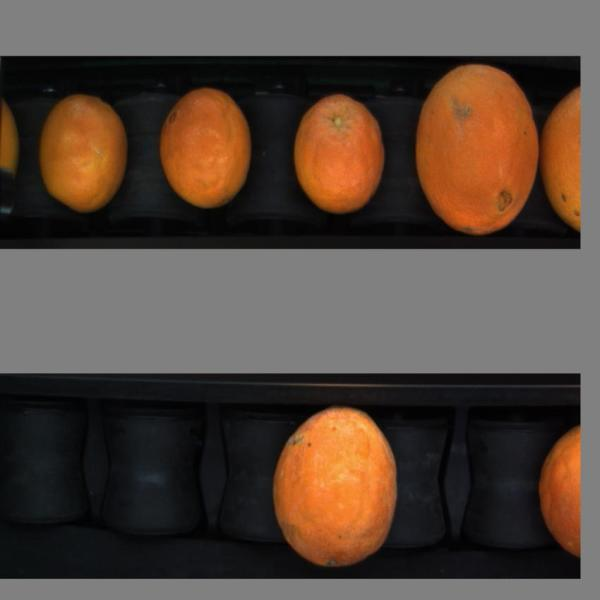Otros defectos: (260, 406, 404, 572), (412, 60, 543, 240), (157, 85, 263, 223), (281, 89, 389, 216), (35, 91, 140, 216)
Sana: (542, 76, 584, 238), (535, 416, 580, 564), (0, 92, 23, 186)
